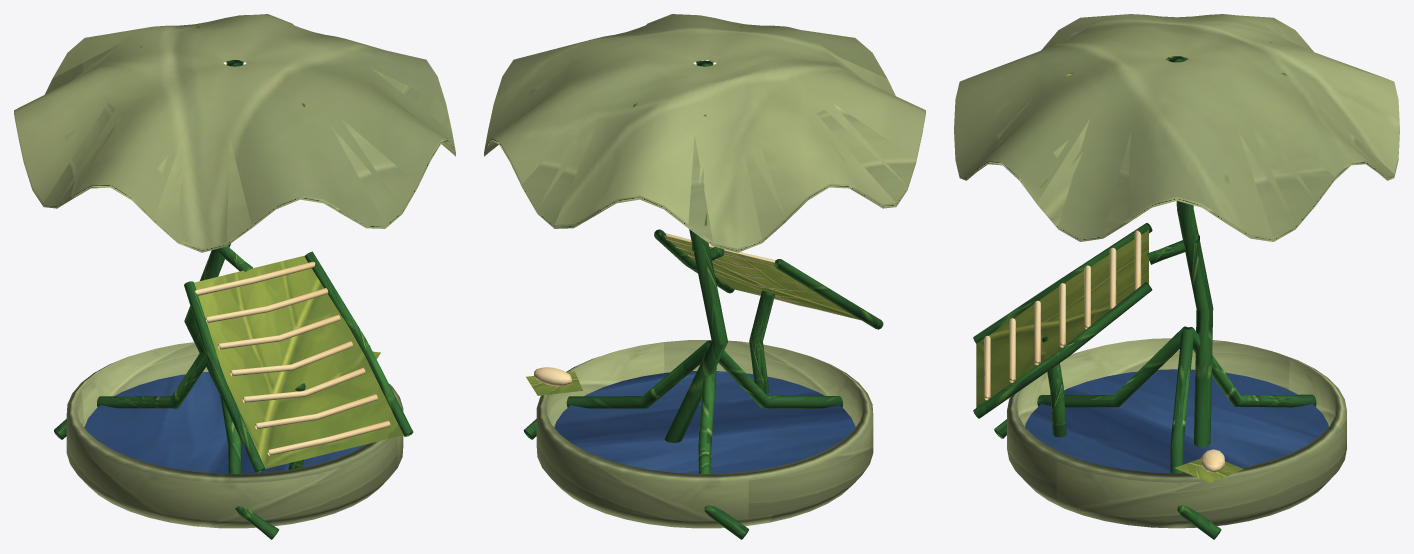
The model's file is revised-10-06.glb.
3 renders of one model, left to right at view 1: azimuth 30°, elevation 25°; view 2: azimuth 150°, elevation 25°; view 3: azimuth 270°, elevation 25°, orthographic.
Parts seen in each view (by area): view 1: mushroom_wash; view 2: mushroom_wash; view 3: mushroom_wash.
Part boxes in pixels (bbox=[...]): mushroom_wash: bbox=[14, 14, 455, 539]; mushroom_wash: bbox=[484, 14, 925, 539]; mushroom_wash: bbox=[954, 14, 1399, 539].
Bounding box in the file's own units: 1.6 × 1.63 × 1.6.
1 material, 1 textured.
